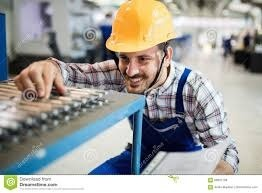helmet: (104, 1, 176, 50)
person with partial safety: (101, 1, 227, 171)
